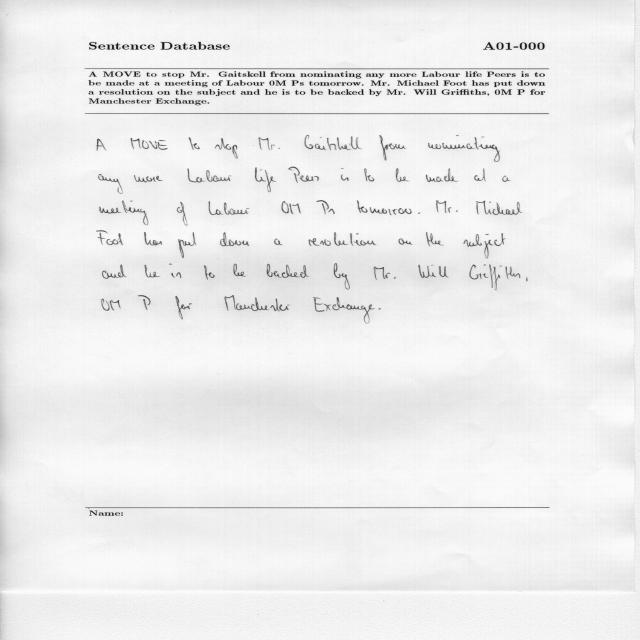word: (428, 135, 500, 162), (313, 297, 375, 323), (470, 265, 521, 291), (100, 201, 148, 226), (463, 233, 506, 258), (224, 296, 290, 312), (309, 232, 376, 246), (305, 135, 363, 150), (102, 295, 151, 311), (357, 201, 411, 215), (379, 135, 406, 161), (281, 201, 335, 214), (476, 201, 522, 215), (187, 169, 232, 183), (267, 264, 309, 278), (209, 201, 250, 215), (255, 168, 276, 193), (288, 167, 319, 183), (178, 232, 197, 258), (215, 138, 238, 159), (99, 174, 123, 194), (426, 168, 458, 182), (131, 138, 168, 150), (333, 264, 350, 290), (220, 233, 249, 247), (418, 265, 449, 278), (175, 296, 192, 319), (97, 231, 123, 245), (103, 264, 127, 279), (374, 267, 396, 280), (259, 137, 280, 150), (436, 201, 458, 213), (426, 232, 444, 246), (177, 202, 187, 226), (144, 232, 162, 245), (134, 175, 163, 182), (145, 265, 160, 278), (396, 168, 409, 182), (234, 264, 247, 277), (169, 264, 181, 278), (188, 137, 200, 150), (474, 169, 486, 182), (204, 265, 214, 280), (364, 169, 374, 182), (97, 139, 106, 151), (341, 168, 348, 181), (399, 239, 413, 245), (502, 176, 511, 182), (274, 239, 283, 245), (526, 277, 528, 281), (418, 212, 420, 214), (378, 308, 381, 309)
